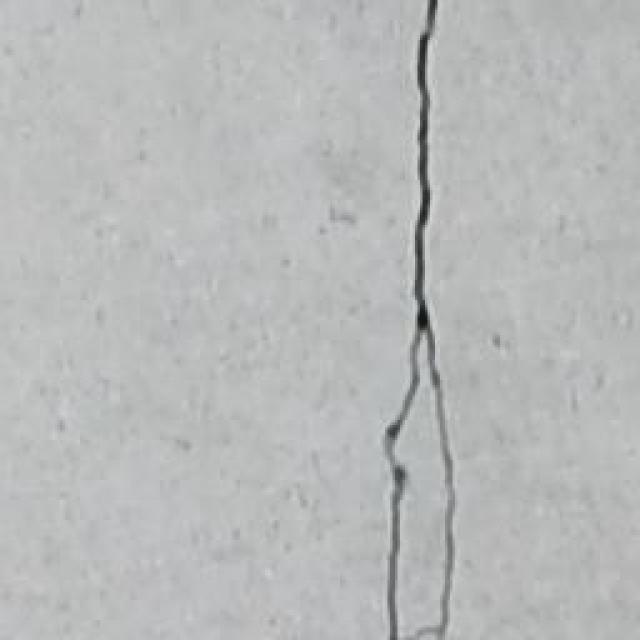concrete-crack: (385, 0, 455, 640)
